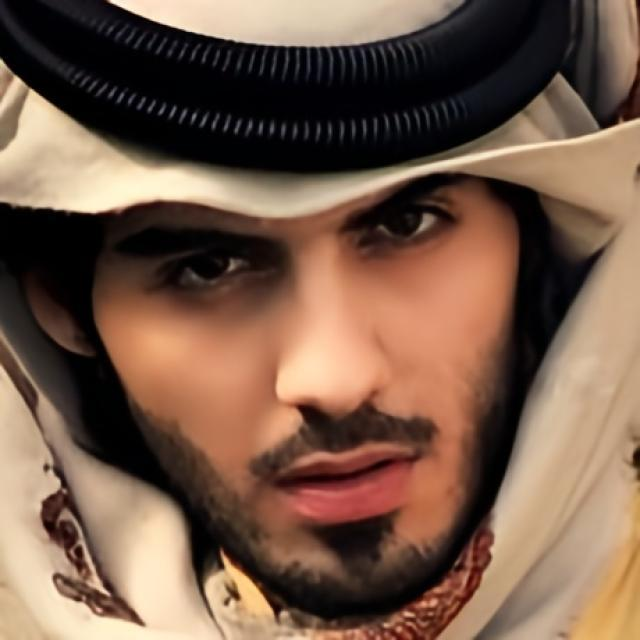anger: (101, 93, 518, 610)
